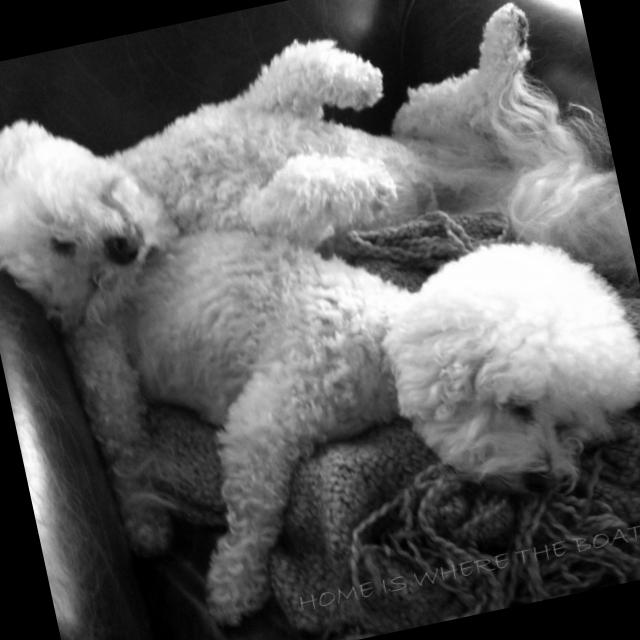laying down: (26, 151, 640, 640), (0, 0, 626, 357)
